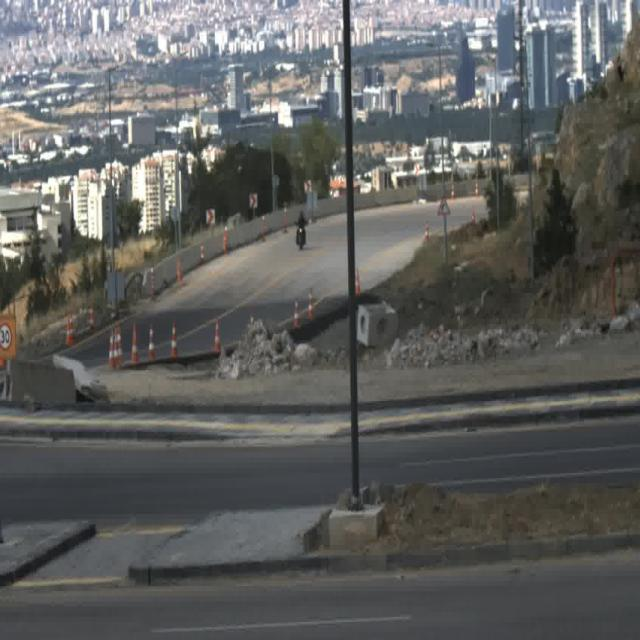Motorcycle: (294, 211, 310, 251)
